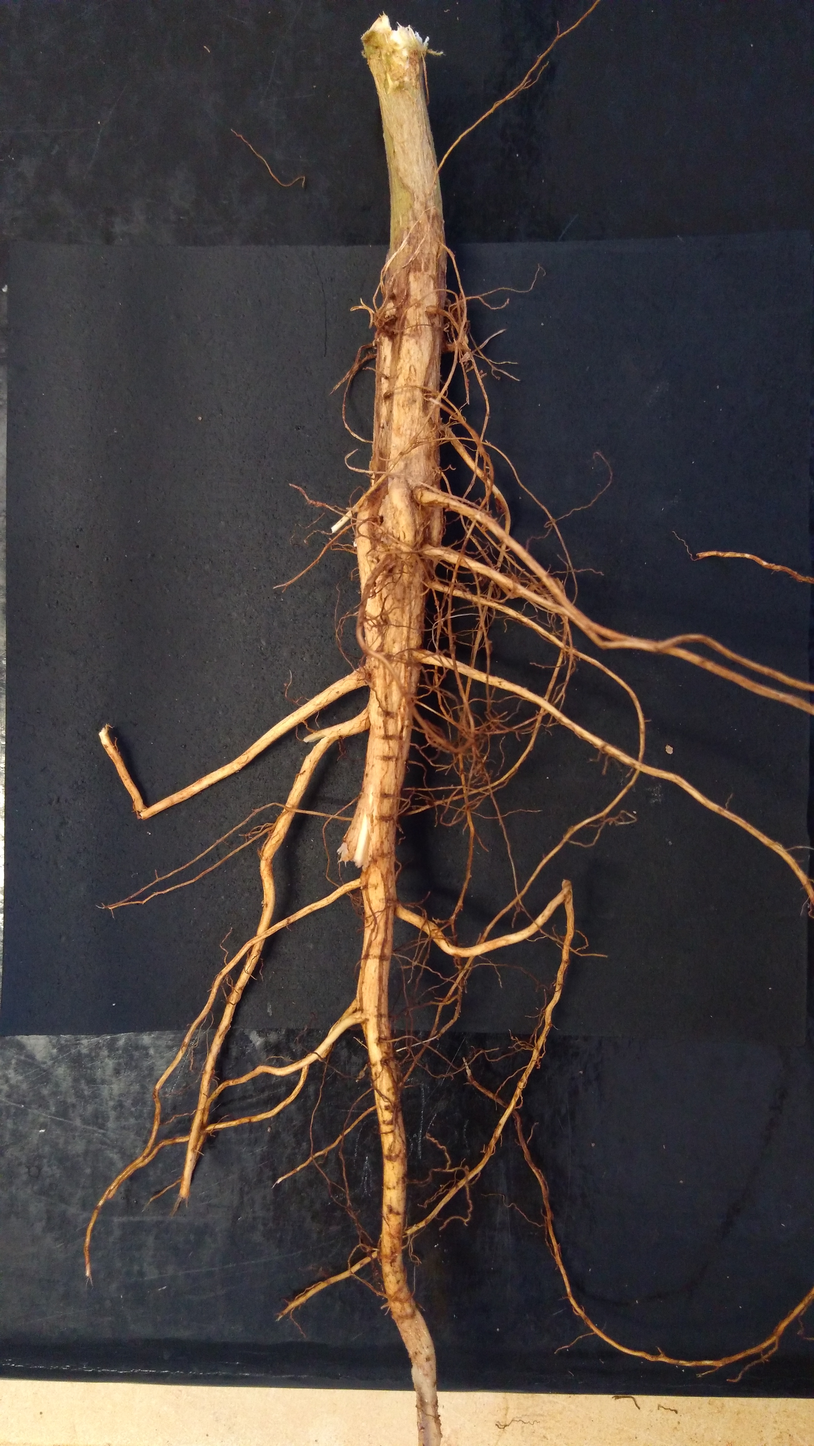nodule: (372, 543, 397, 570), (498, 571, 521, 599), (388, 1058, 401, 1083), (384, 313, 396, 337), (373, 307, 385, 328), (478, 573, 488, 587), (457, 333, 468, 345), (664, 744, 674, 755), (358, 1070, 365, 1079), (398, 1081, 404, 1089), (365, 1246, 373, 1252), (455, 582, 461, 590), (466, 1069, 472, 1076), (353, 541, 357, 548), (267, 1126, 271, 1132), (261, 899, 264, 904), (439, 1184, 443, 1187)
